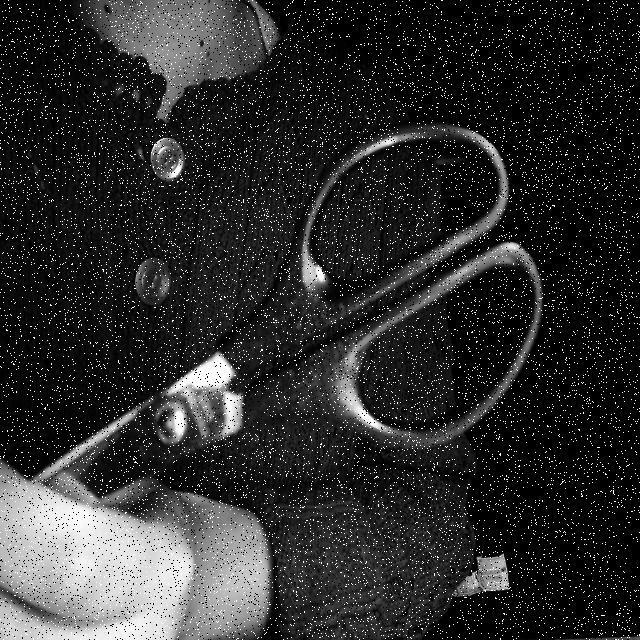scissors: (0, 115, 546, 542)
